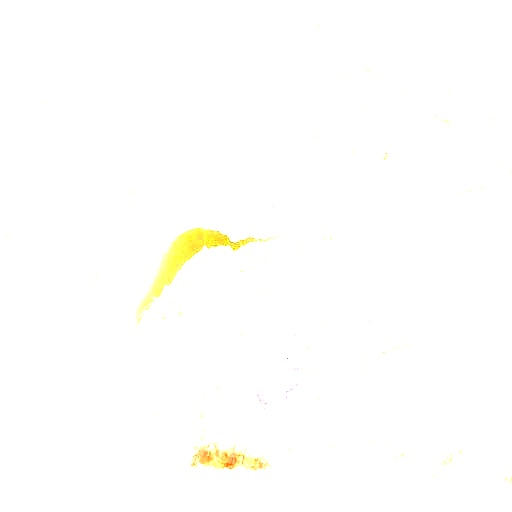Angular Leafspot: (0, 0, 511, 511)
